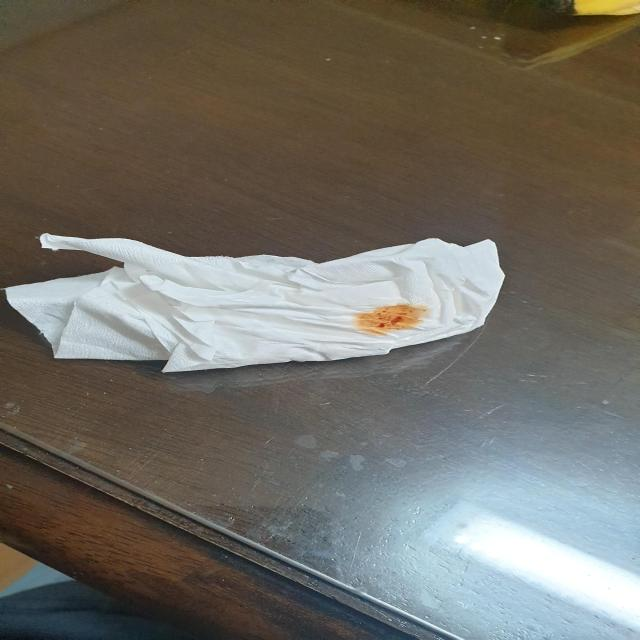litter: (5, 235, 507, 371)
